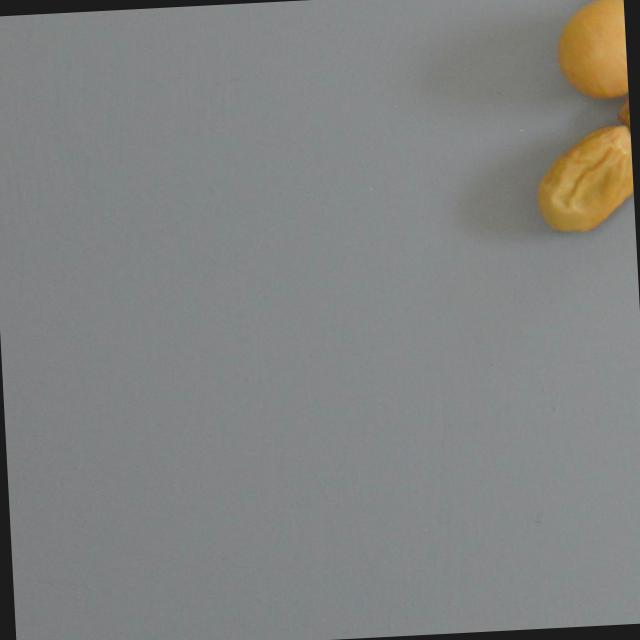cuerpos_extranos: (527, 120, 636, 238), (550, 0, 629, 100), (615, 81, 633, 186)
